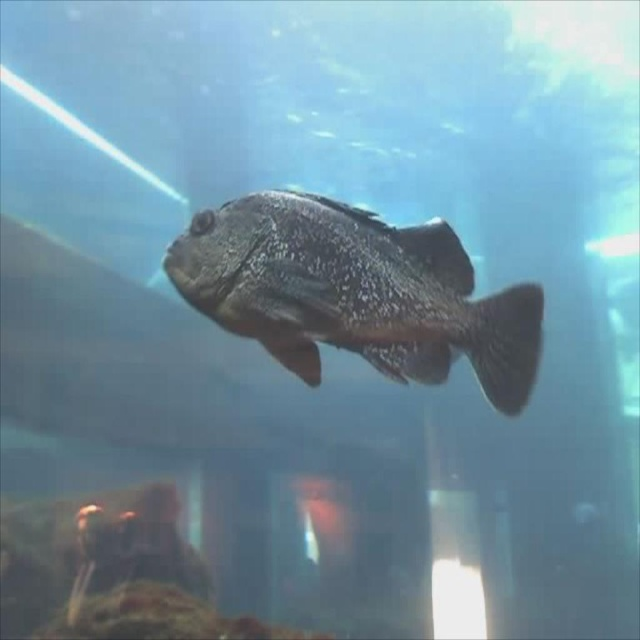Fish: (184, 184, 551, 417)
